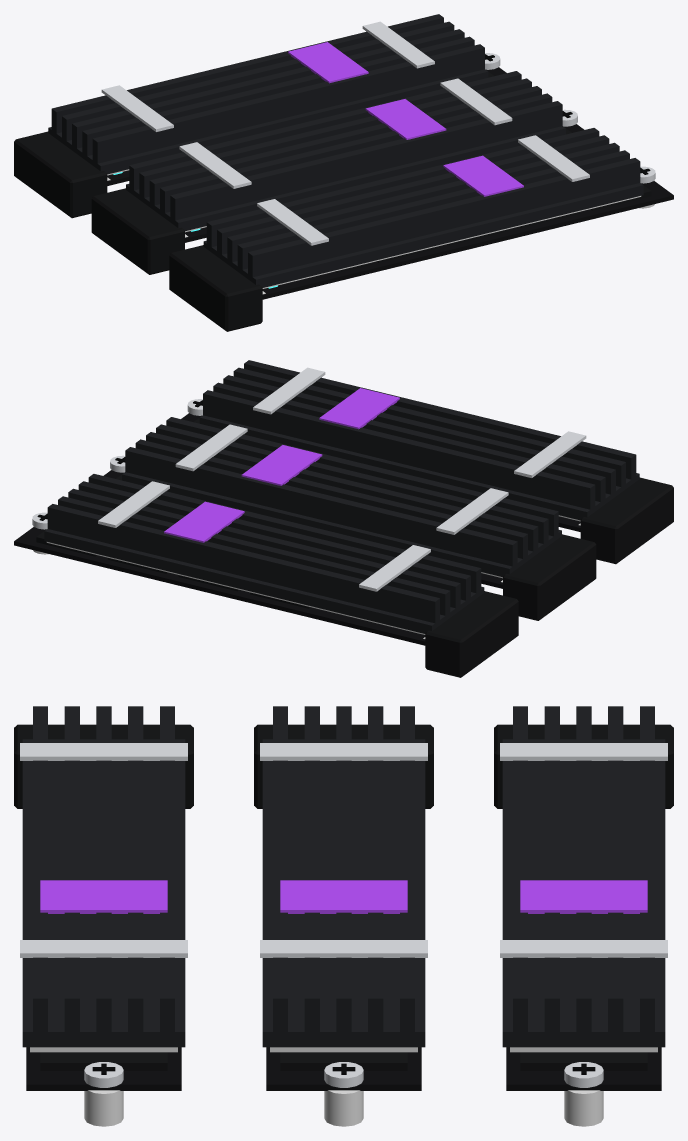
The model's file is hwm_sto_allflash_128tb.glb.
3 views of the same model, one above another, from view 1: azimuth 30°, elevation 25°; view 2: azimuth 150°, elevation 25°; view 3: azimuth 270°, elevation 25° (orthographic). The views are drawn at different scales.
Visible parts, largest first — view 1: SSD_2, SSD_0, SSD_1, Slots; view 2: SSD_0, SSD_2, SSD_1, Slots; view 3: SSD_0, SSD_1, SSD_2, Slots, Screw_0, Screw_1, Screw_2.
Boxes of the visible parts, x1,y1,x2,y2 form: SSD_2: (203,128,673,299); SSD_0: (48,14,506,185); SSD_1: (126,71,584,242); Slots: (14,67,654,331); SSD_0: (14,474,484,645); SSD_2: (181,360,639,531); SSD_1: (103,417,561,588); Slots: (33,413,673,677); SSD_0: (500,706,667,1090); SSD_1: (260,706,427,1090); SSD_2: (20,706,187,1090); Slots: (14,724,673,1126); Screw_0: (564,1062,603,1087); Screw_1: (324,1062,363,1087); Screw_2: (84,1062,123,1087).
Bounding box in the file's own units: 0.1155 × 0.0164 × 0.0935.
